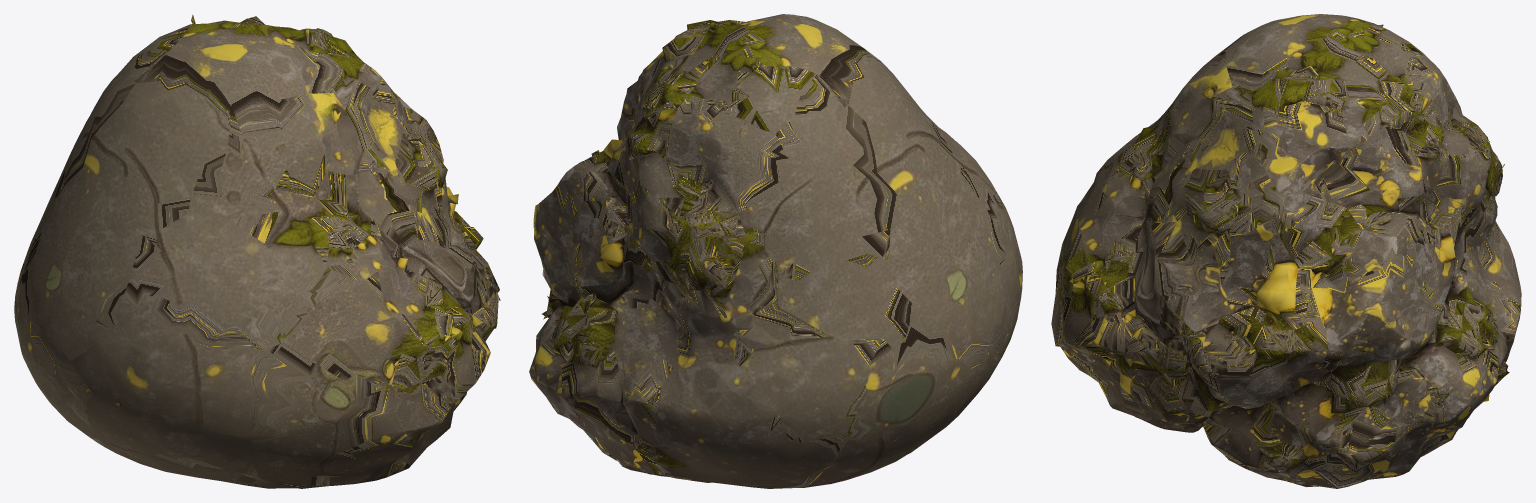
File: mossy_sulfur_ore_rock_01.glb
3 renders of one model, left to right at view 1: azimuth 30°, elevation 25°; view 2: azimuth 150°, elevation 25°; view 3: azimuth 270°, elevation 25°, orthographic. The views are drawn at different scales.
Parts seen in each view (by area): view 1: tripo_node_d39e3ba3-e08d-4bd4-aed9-eb91931fcd88; view 2: tripo_node_d39e3ba3-e08d-4bd4-aed9-eb91931fcd88; view 3: tripo_node_d39e3ba3-e08d-4bd4-aed9-eb91931fcd88.
Boxes of the visible parts, left/top/right/bottom form: tripo_node_d39e3ba3-e08d-4bd4-aed9-eb91931fcd88: left=14, top=14, right=500, bottom=488; tripo_node_d39e3ba3-e08d-4bd4-aed9-eb91931fcd88: left=529, top=14, right=1022, bottom=488; tripo_node_d39e3ba3-e08d-4bd4-aed9-eb91931fcd88: left=1051, top=14, right=1521, bottom=488.
Bounding box in the file's own units: 0.962 × 0.942 × 0.9918.
Materials: 1 (1 with a texture image).
